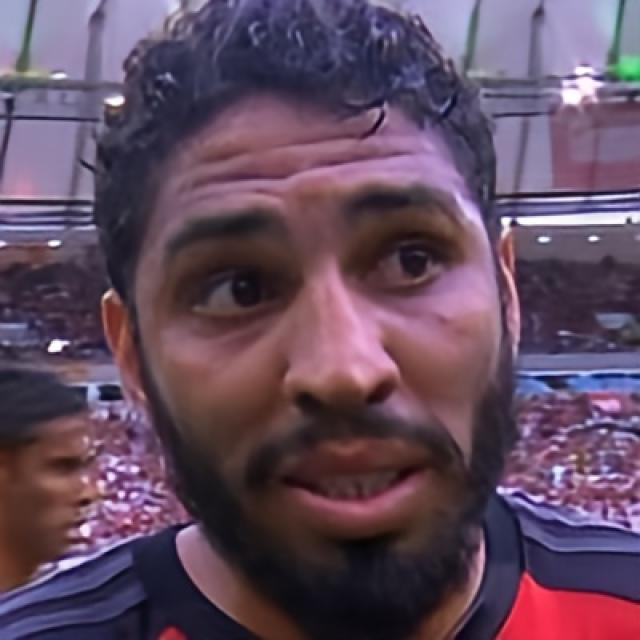surprise: (131, 100, 514, 632)
